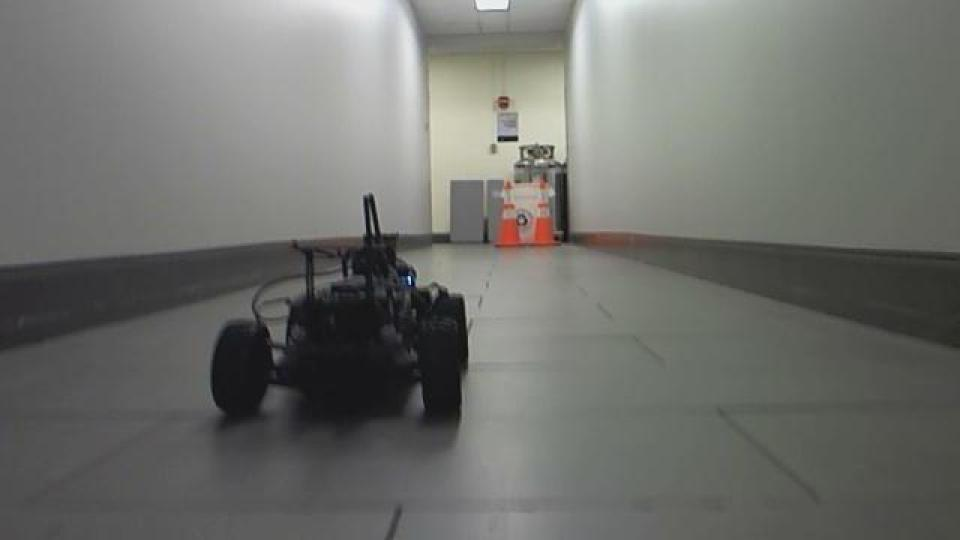car: (206, 187, 473, 430)
